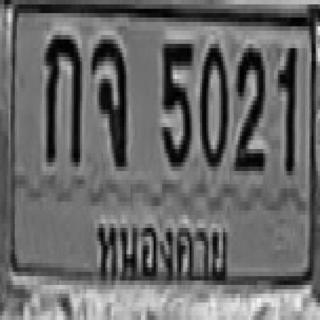A01: (42, 16, 92, 175)
A08: (86, 22, 138, 180)
N00: (196, 27, 232, 180)
N01: (273, 26, 306, 190)
N02: (231, 31, 272, 199)
N05: (154, 23, 194, 176)
P36: (79, 200, 243, 296)
